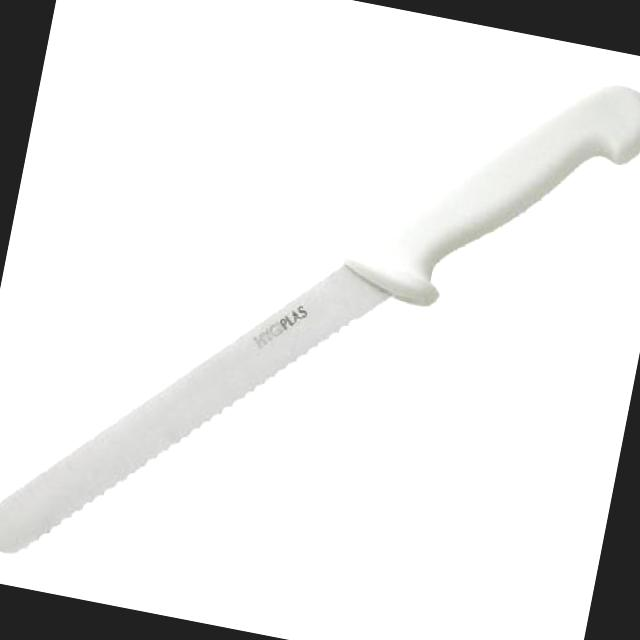knife: (0, 139, 456, 640)
